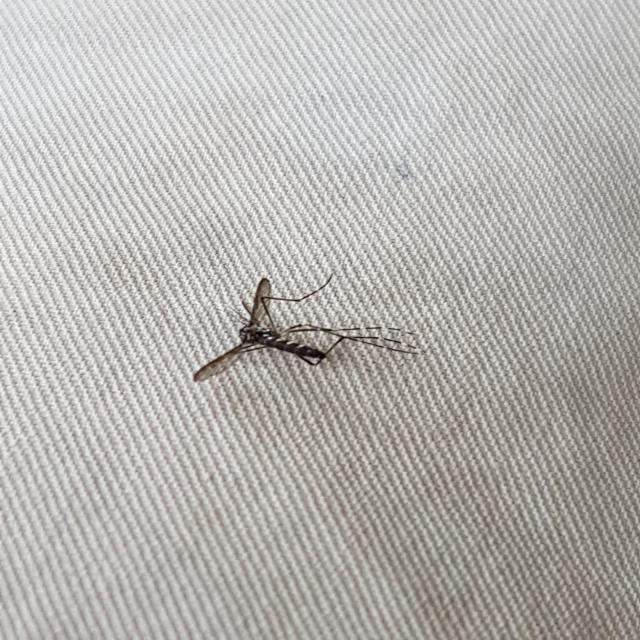albopictus: (189, 263, 434, 391)
